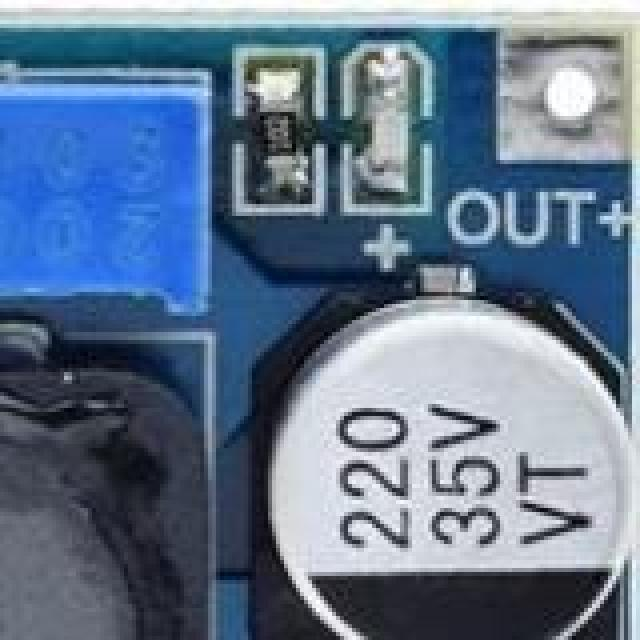LED: (356, 72, 416, 186)
capacitor: (268, 264, 636, 640)
inductor: (0, 348, 216, 640)
potentiometer: (0, 68, 220, 332)
resistor: (260, 68, 320, 202)
